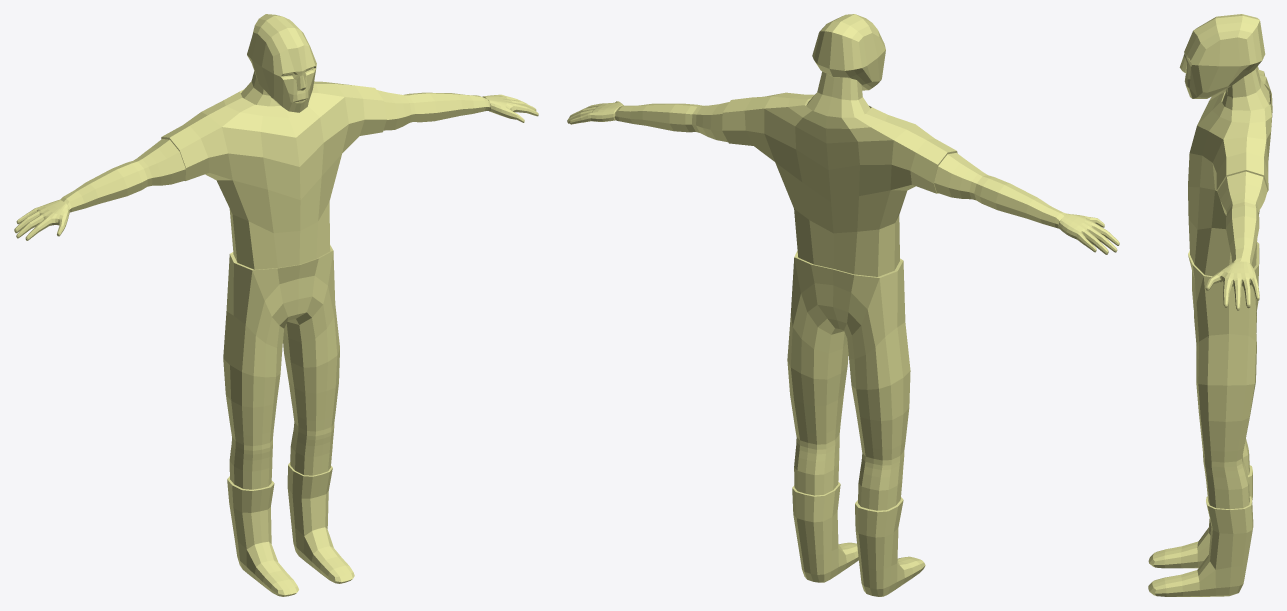
Rendered from ShadowSentinelBase6.fbx.
3 renders of one model, left to right at view 1: azimuth 30°, elevation 25°; view 2: azimuth 150°, elevation 25°; view 3: azimuth 270°, elevation 25°, orthographic. The views are drawn at different scales.
Visible parts, largest first — view 1: Done.031; view 2: Done.031; view 3: Done.031.
Boxes of the visible parts, bbox=[...] form: Done.031: bbox=[14, 14, 538, 596]; Done.031: bbox=[567, 14, 1119, 596]; Done.031: bbox=[1148, 14, 1272, 596].
Size of the model in its own units: 415 by 415 by 83.
